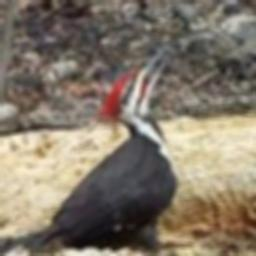Woodpecker: (0, 50, 178, 255)
